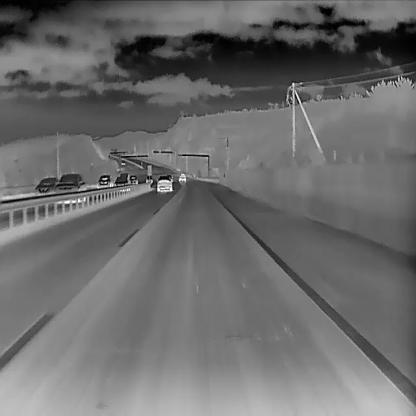car: (54, 172, 87, 202), (34, 176, 59, 198), (95, 173, 114, 189), (113, 175, 129, 191), (156, 175, 172, 191), (128, 174, 138, 184), (177, 172, 186, 182), (145, 174, 153, 183), (120, 160, 124, 164)
